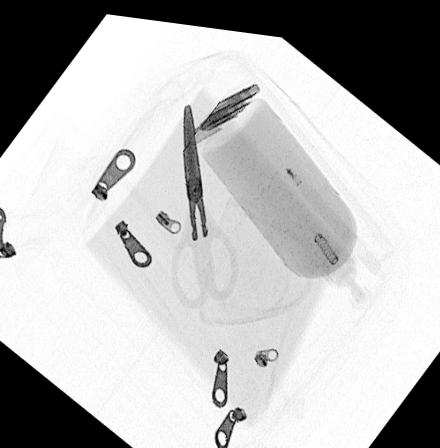Scissors: (165, 100, 240, 303)
